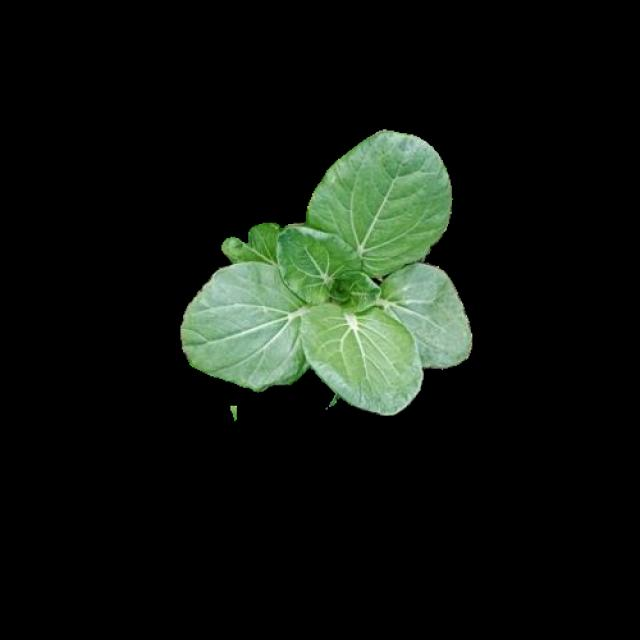healthy: (180, 127, 470, 412)
not-mature: (183, 129, 472, 415)
